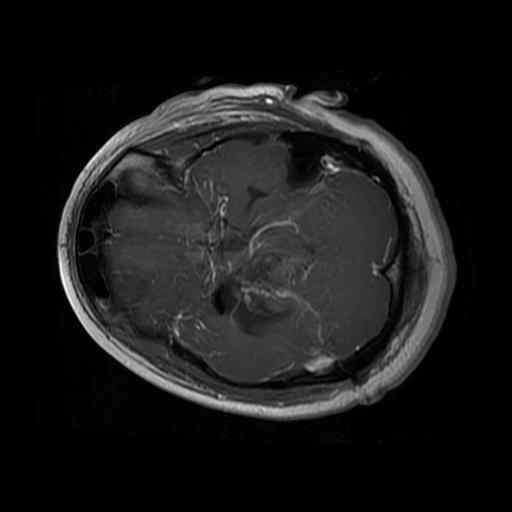glioma: (209, 218, 315, 342)
